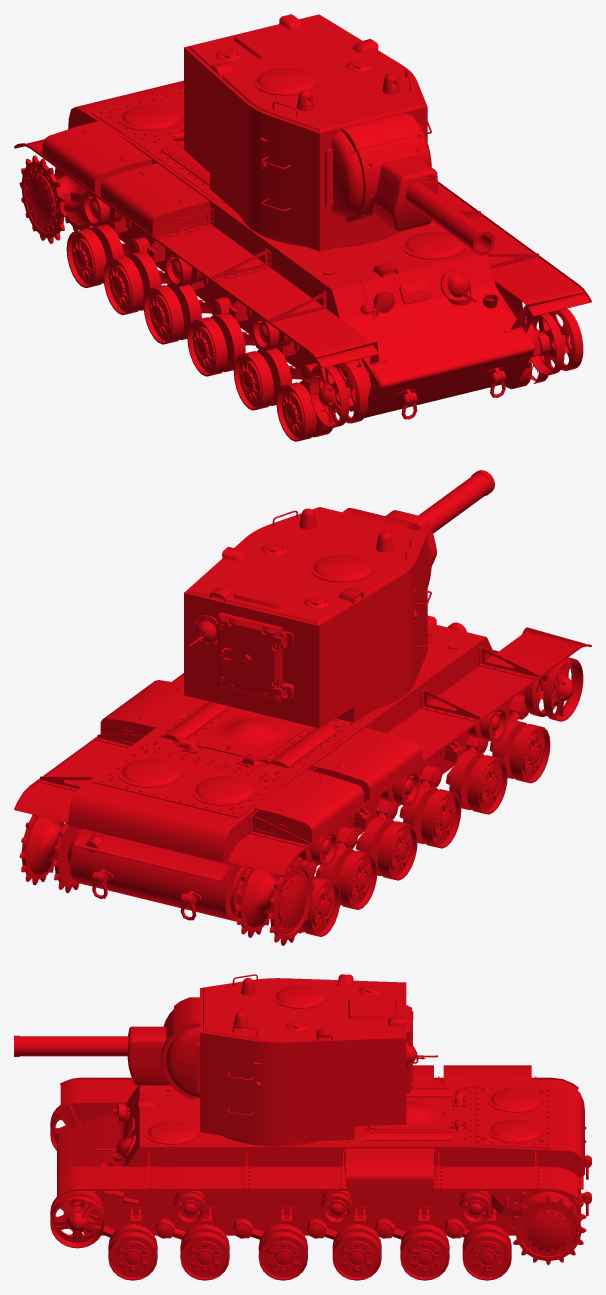
The picture shows the model from 3 angles, top to bottom: view 1: azimuth 30°, elevation 25°; view 2: azimuth 150°, elevation 25°; view 3: azimuth 270°, elevation 25°; orthographic projection. The views are drawn at different scales.
Parts seen in each view (by area): view 1: Object_4; view 2: Object_4; view 3: Object_4.
Part boxes in pixels (bbox=[...]): Object_4: bbox=[14, 14, 591, 441]; Object_4: bbox=[14, 470, 591, 945]; Object_4: bbox=[14, 974, 591, 1280].
Size of the model in its own units: 3.07 by 3.03 by 6.74.
